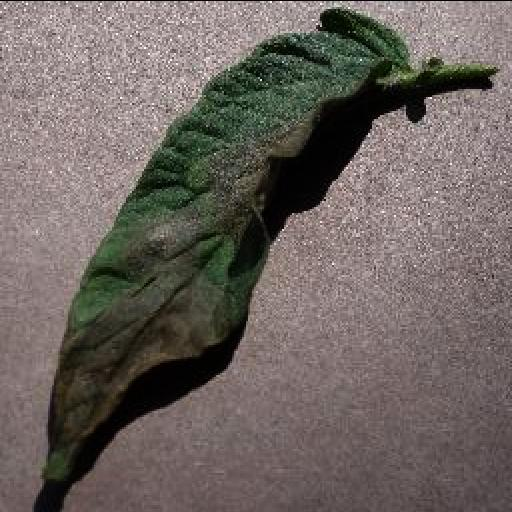disease_tomato: (40, 6, 418, 484)
